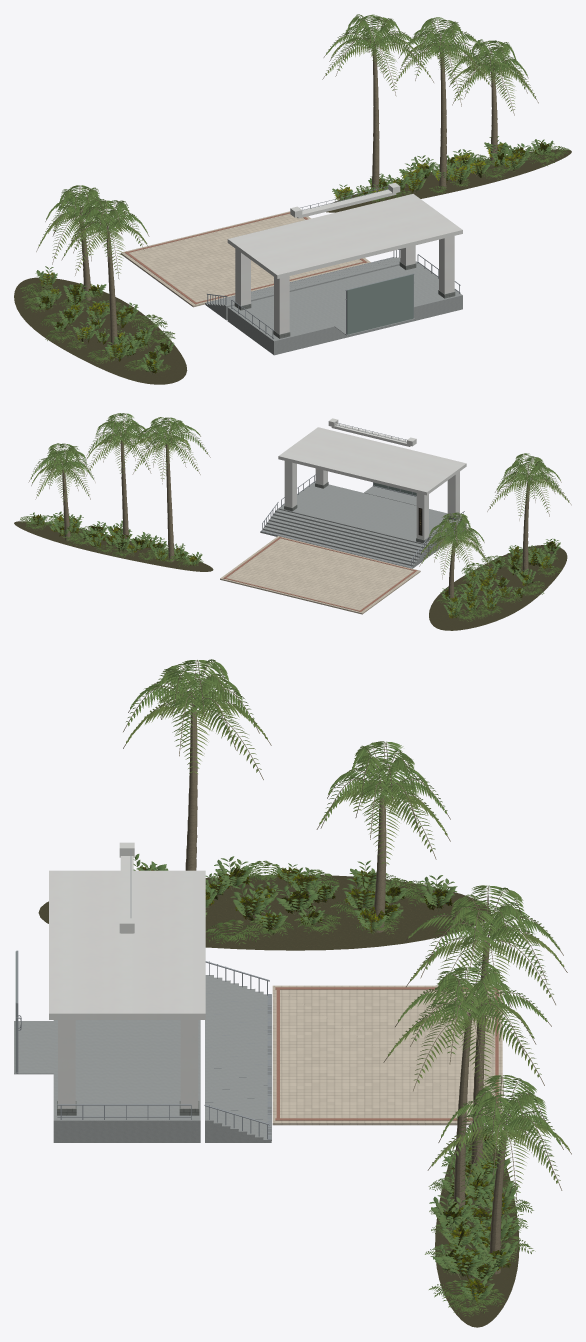
File: arts_entrance.glb
The picture shows the model from 3 angles, top to bottom: view 1: azimuth 30°, elevation 25°; view 2: azimuth 150°, elevation 25°; view 3: azimuth 270°, elevation 25°; orthographic projection. The views are drawn at different scales.
Visible parts, largest first — view 1: arts.painted-plaster.0011, arts.granite.0001, arts.forecourt.0149, arts.earth.0368, arts.component.0119, arts.component.0322, arts.component.0300, arts.component.0366, arts.earth.0367, arts.component.0278, arts.component.0344, arts.painted-plaster.0006 (+8 smaller); view 2: arts.forecourt.0149, arts.painted-plaster.0011, arts.granite.0001, arts.earth.0368, arts.earth.0367, arts.component.0322, arts.component.0366, arts.component.0344, arts.component.0300, arts.component.0278, arts.granite.0029, arts.granite.0040 (+14 smaller); view 3: arts.forecourt.0149, arts.painted-plaster.0011, arts.granite.0001, arts.earth.0368, arts.component.0300, arts.component.0322, arts.component.0278, arts.component.0366, arts.component.0344, arts.earth.0367, arts.granite.0130, arts.painted-plaster.0004 (+14 smaller).
Part boxes in pixels (bbox=[...]): arts.painted-plaster.0011: bbox=[227, 194, 462, 278]; arts.granite.0001: bbox=[227, 261, 462, 355]; arts.forecourt.0149: bbox=[120, 211, 370, 307]; arts.earth.0368: bbox=[14, 277, 187, 384]; arts.component.0119: bbox=[347, 274, 413, 334]; arts.component.0322: bbox=[325, 14, 430, 90]; arts.component.0300: bbox=[396, 17, 489, 99]; arts.component.0366: bbox=[64, 197, 147, 273]; arts.earth.0367: bbox=[326, 149, 571, 212]; arts.component.0278: bbox=[450, 39, 535, 111]; arts.component.0344: bbox=[38, 185, 120, 258]; arts.painted-plaster.0006: bbox=[274, 276, 289, 334]; arts.forecourt.0149: bbox=[220, 536, 420, 614]; arts.painted-plaster.0011: bbox=[278, 427, 466, 495]; arts.granite.0001: bbox=[278, 481, 466, 556]; arts.earth.0368: bbox=[429, 545, 567, 630]; arts.earth.0367: bbox=[14, 521, 213, 571]; arts.component.0322: bbox=[127, 417, 207, 478]; arts.component.0366: bbox=[489, 453, 569, 515]; arts.component.0344: bbox=[421, 512, 489, 575]; arts.component.0300: bbox=[87, 413, 156, 473]; arts.component.0278: bbox=[31, 443, 93, 501]; arts.granite.0029: bbox=[275, 509, 428, 557]; arts.granite.0040: bbox=[273, 512, 426, 559]; arts.forecourt.0149: bbox=[272, 985, 502, 1125]; arts.painted-plaster.0011: bbox=[49, 870, 205, 1019]; arts.granite.0001: bbox=[53, 1020, 200, 1142]; arts.earth.0368: bbox=[38, 875, 490, 950]; arts.component.0300: bbox=[388, 961, 547, 1087]; arts.component.0322: bbox=[408, 885, 564, 1014]; arts.component.0278: bbox=[431, 1075, 569, 1194]; arts.component.0366: bbox=[126, 659, 267, 773]; arts.component.0344: bbox=[319, 741, 447, 864]; arts.earth.0367: bbox=[435, 1139, 519, 1327]; arts.granite.0130: bbox=[14, 1021, 53, 1074]; arts.painted-plaster.0004: bbox=[180, 1020, 198, 1108].
Bounding box in the file's own units: 57.75 × 16.69 × 29.57.
Materials: 12 (10 with a texture image).
